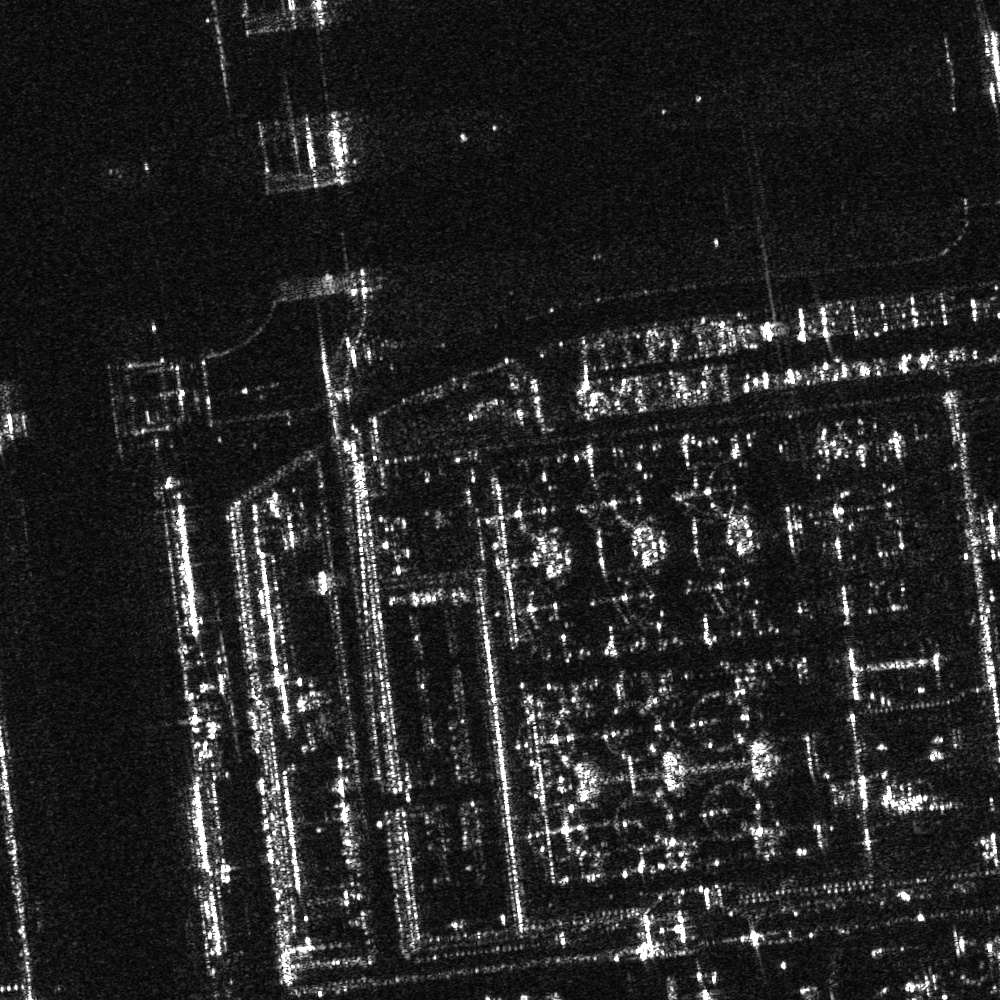Boeing787: (959, 933, 999, 999)
